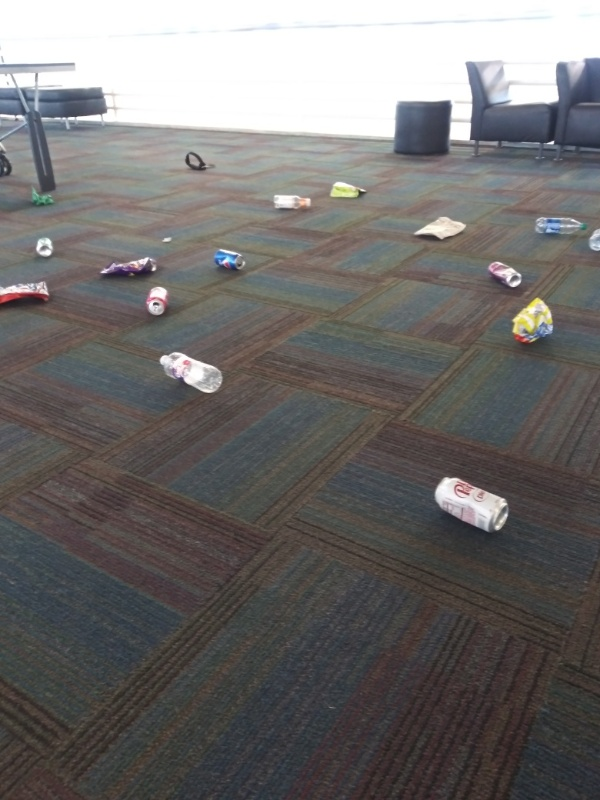bag: (505, 296, 556, 346), (410, 213, 472, 244), (95, 254, 162, 282), (1, 278, 56, 309), (327, 178, 369, 203)
bottle: (153, 349, 223, 400), (529, 214, 590, 242), (268, 191, 315, 213)
can: (430, 474, 514, 536), (483, 256, 527, 290), (141, 285, 172, 318), (210, 248, 248, 274), (32, 235, 56, 258)
